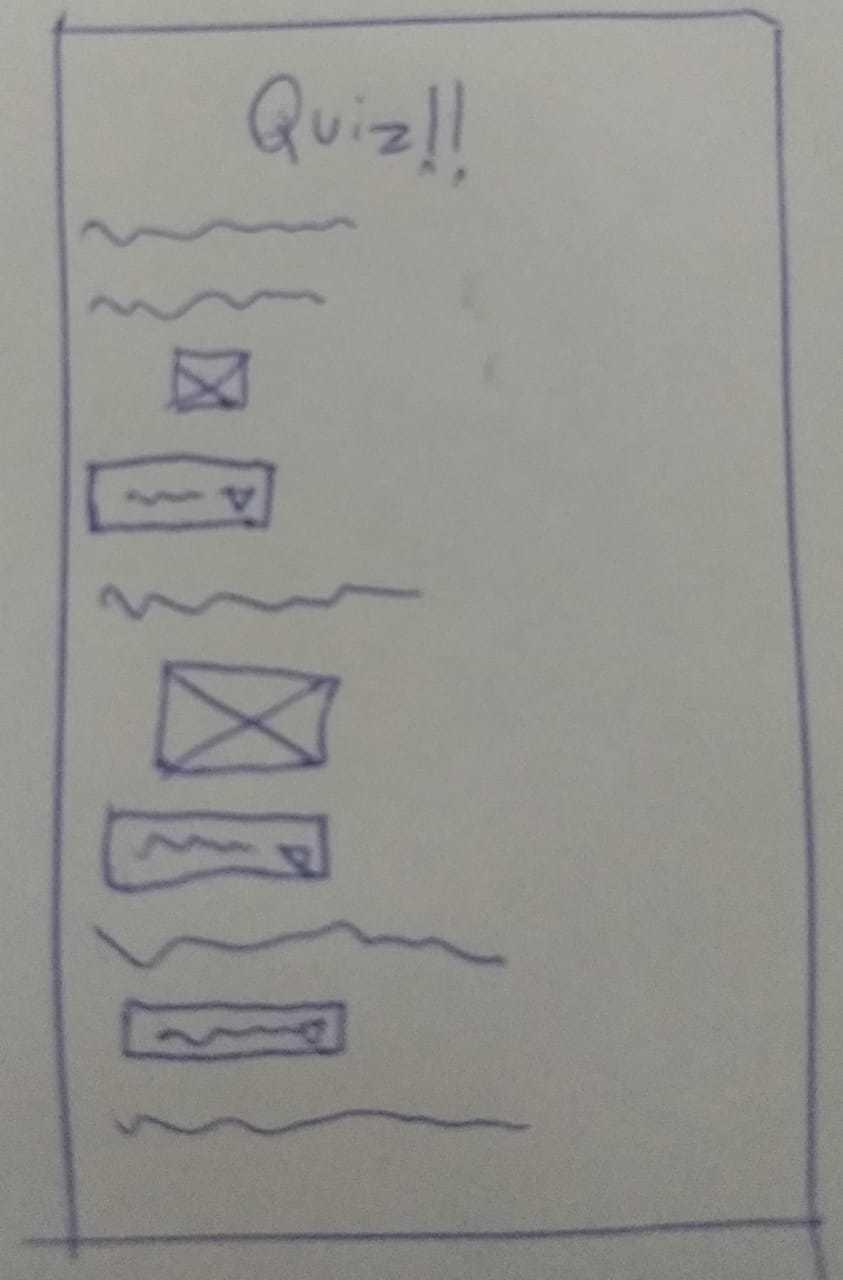Image: (153, 659, 343, 773), (172, 350, 248, 410)
Label: (78, 214, 359, 323), (245, 74, 468, 187), (88, 919, 506, 970), (100, 580, 424, 624), (114, 1110, 530, 1136)
ListPicker: (102, 809, 330, 890), (88, 453, 275, 532), (119, 998, 348, 1060)
Screen: (51, 10, 819, 1245)
